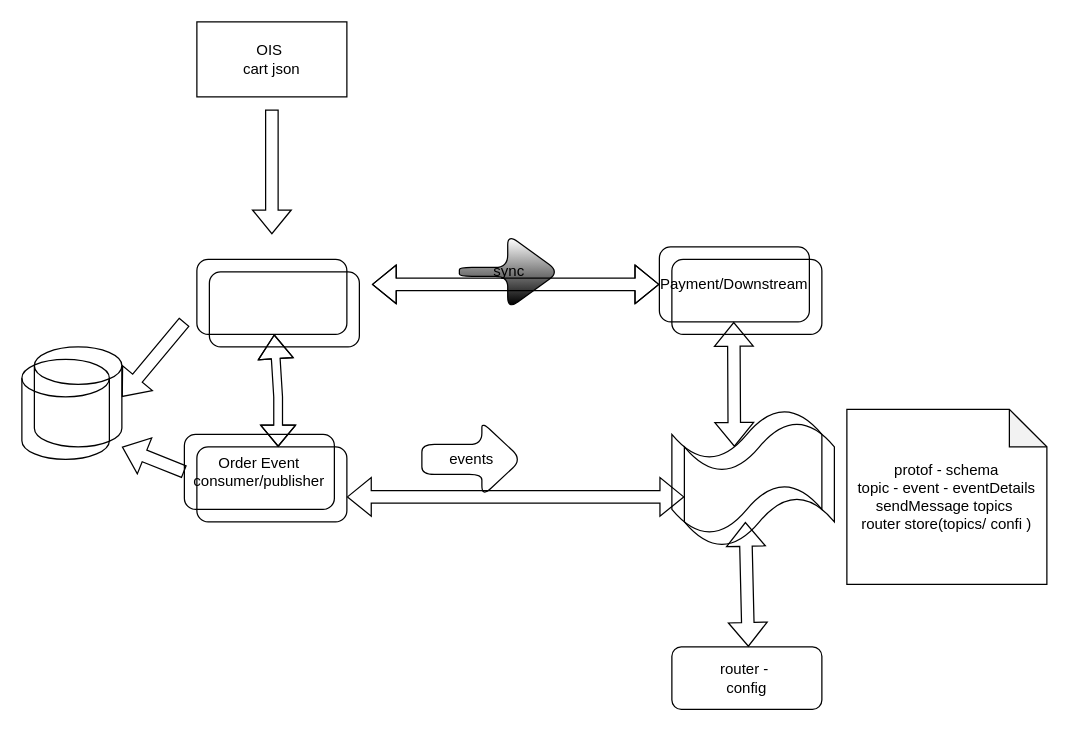
Image size: 1069x731. Some labels were removed from this diagram. Each missing label, with the centre of its shape:
Kafka: (x=746, y=471)
Order Service json delta comparator: (x=283, y=309)
RDBMS Oracle DB: (x=77, y=396)
